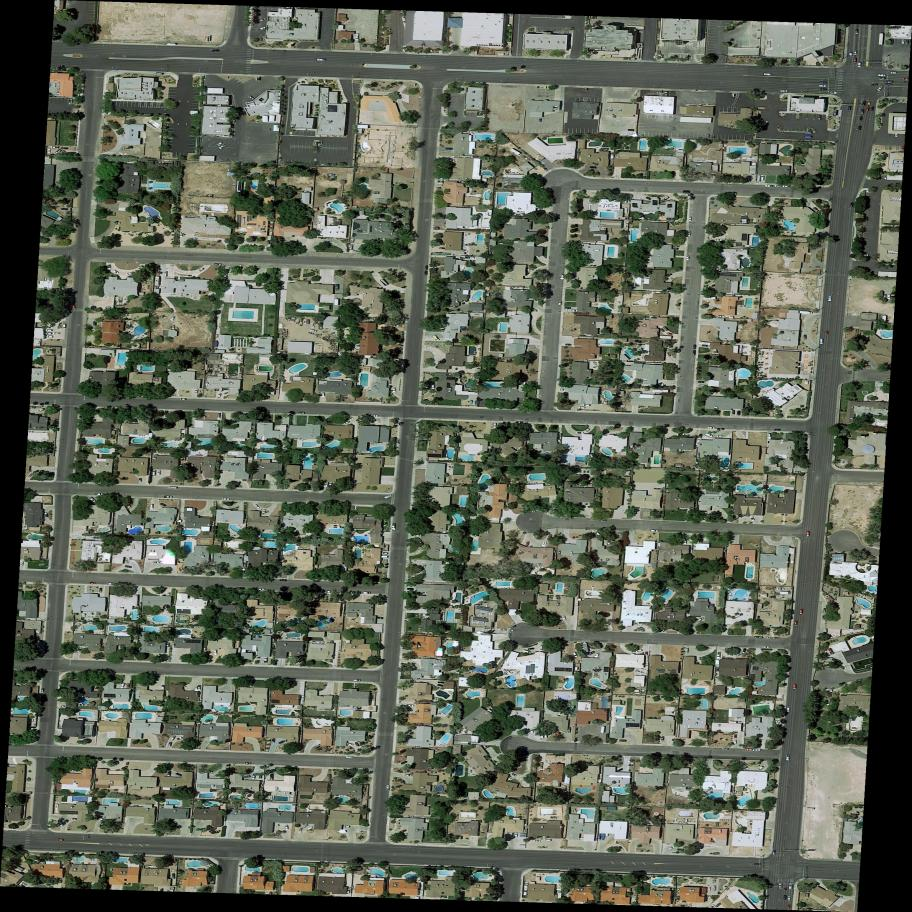large-vehicle: (508, 147, 523, 158), (878, 32, 884, 45), (557, 891, 563, 899), (522, 649, 531, 654), (857, 62, 862, 68)
ship: (523, 883, 530, 893)
small-vehicle: (431, 333, 442, 344), (87, 494, 97, 505), (340, 419, 353, 427), (875, 83, 885, 93), (830, 657, 843, 664), (158, 500, 168, 509), (704, 432, 715, 440), (741, 762, 750, 771), (827, 646, 835, 656), (18, 880, 28, 888), (256, 25, 267, 32), (169, 314, 177, 323), (218, 143, 227, 151), (756, 764, 765, 772), (98, 815, 107, 823), (252, 502, 261, 510), (521, 154, 530, 162), (196, 267, 206, 274), (668, 844, 676, 852), (714, 901, 722, 909), (697, 616, 705, 624), (584, 426, 592, 434), (53, 149, 62, 156), (616, 766, 625, 773), (828, 685, 835, 694), (561, 614, 568, 623), (569, 326, 578, 333), (126, 270, 136, 276), (112, 268, 120, 275), (216, 141, 224, 148), (59, 149, 67, 156), (627, 758, 635, 765), (697, 432, 704, 440), (572, 651, 579, 659), (846, 105, 853, 113), (250, 772, 257, 780), (546, 533, 553, 541), (315, 57, 326, 62), (635, 648, 644, 654), (587, 650, 596, 656), (553, 730, 562, 736), (307, 825, 316, 831), (175, 771, 184, 777), (383, 494, 392, 500), (604, 541, 614, 546), (869, 83, 879, 88), (334, 283, 341, 290), (27, 472, 34, 479), (832, 109, 839, 116), (510, 771, 517, 778), (148, 503, 155, 510), (659, 327, 666, 334), (162, 495, 174, 499), (735, 651, 743, 657), (817, 114, 823, 122), (399, 828, 407, 834), (400, 760, 408, 766), (509, 624, 517, 630), (261, 509, 269, 515), (663, 325, 669, 333), (309, 328, 318, 333), (211, 48, 220, 53), (712, 530, 721, 535), (783, 184, 792, 189), (124, 565, 133, 570), (528, 509, 537, 514), (706, 425, 717, 429), (217, 392, 223, 399), (194, 388, 200, 395), (163, 270, 169, 277), (248, 94, 254, 101), (151, 469, 157, 476), (708, 904, 715, 910), (785, 754, 791, 761), (825, 699, 831, 706), (695, 439, 701, 446), (750, 516, 756, 523), (852, 57, 858, 64), (854, 28, 860, 35), (849, 201, 855, 208), (857, 125, 863, 132), (827, 295, 833, 302), (861, 100, 867, 107), (865, 105, 871, 112), (870, 105, 876, 112), (667, 350, 673, 357), (297, 827, 303, 834), (327, 481, 333, 488), (541, 540, 547, 547), (492, 422, 498, 429), (45, 327, 53, 332), (838, 681, 846, 686), (716, 434, 724, 439), (645, 196, 653, 201), (94, 492, 104, 496), (87, 581, 97, 585), (445, 146, 453, 151), (662, 196, 670, 201), (406, 587, 416, 591), (676, 848, 685, 852), (156, 470, 162, 476), (50, 145, 59, 149), (788, 884, 794, 890), (753, 748, 762, 752), (682, 540, 688, 546), (744, 748, 753, 752), (761, 645, 770, 649), (594, 652, 600, 658), (793, 470, 802, 474), (900, 39, 906, 45), (904, 39, 910, 45), (889, 39, 895, 45), (33, 469, 39, 475), (824, 330, 830, 336), (818, 84, 827, 88), (18, 561, 24, 567), (221, 497, 230, 501), (43, 512, 49, 518), (256, 587, 265, 591), (166, 770, 172, 776), (765, 184, 774, 188), (714, 238, 723, 242), (559, 274, 565, 280), (534, 489, 540, 495), (557, 300, 563, 306), (138, 477, 143, 484), (295, 318, 300, 325), (259, 17, 266, 22), (47, 148, 52, 155), (792, 683, 797, 690), (717, 651, 722, 658), (684, 647, 689, 654), (849, 51, 854, 58), (819, 338, 824, 345), (860, 109, 865, 116), (385, 785, 390, 792), (509, 629, 516, 634), (761, 174, 766, 181), (525, 540, 530, 547), (392, 386, 397, 393), (167, 486, 178, 489), (753, 636, 764, 639), (179, 397, 187, 401), (61, 207, 69, 211), (213, 263, 221, 267), (61, 146, 69, 150), (627, 128, 635, 132), (774, 184, 782, 188), (619, 404, 627, 408), (533, 839, 541, 843), (436, 683, 444, 687), (527, 647, 535, 651), (151, 561, 159, 565), (56, 838, 64, 842), (325, 590, 333, 594), (350, 591, 358, 595), (499, 628, 507, 632), (376, 616, 384, 620), (763, 72, 771, 76), (527, 268, 535, 272), (61, 324, 67, 329), (310, 323, 315, 329), (216, 413, 221, 419), (349, 244, 354, 250), (778, 883, 783, 889), (782, 895, 787, 901), (787, 895, 792, 901), (786, 903, 791, 909), (822, 607, 827, 613), (821, 614, 826, 620), (743, 648, 748, 654), (884, 80, 894, 83), (876, 74, 886, 77), (618, 739, 628, 742), (883, 83, 893, 86), (803, 334, 808, 340), (887, 294, 892, 300), (859, 116, 864, 122), (867, 100, 872, 106), (171, 873, 176, 879), (346, 888, 351, 894), (159, 888, 165, 893), (268, 891, 273, 897), (284, 824, 289, 830), (278, 579, 288, 582), (258, 773, 263, 779), (269, 774, 274, 780), (688, 216, 693, 222), (538, 117, 543, 123), (691, 350, 696, 356), (362, 591, 372, 594), (190, 206, 197, 210), (764, 636, 771, 640), (861, 253, 868, 257), (830, 91, 837, 95), (438, 680, 445, 684), (540, 645, 544, 652), (673, 244, 680, 248), (702, 344, 709, 348), (649, 529, 658, 532), (598, 519, 607, 522), (901, 78, 910, 81), (773, 428, 782, 431), (819, 81, 828, 84), (780, 89, 789, 92), (405, 704, 414, 707), (106, 582, 115, 585), (582, 404, 591, 407), (71, 304, 76, 309), (92, 321, 97, 326), (171, 325, 176, 330), (321, 393, 326, 398), (771, 850, 776, 855), (786, 707, 791, 712), (733, 739, 738, 744), (853, 50, 858, 55), (882, 294, 887, 299), (883, 176, 888, 181), (894, 133, 899, 138), (687, 231, 692, 236), (736, 410, 741, 415), (53, 332, 61, 335), (44, 332, 52, 335), (45, 335, 53, 338), (299, 321, 303, 327), (297, 412, 305, 415), (568, 727, 572, 733), (753, 863, 761, 866), (799, 609, 803, 615), (734, 733, 738, 739), (721, 747, 729, 750), (890, 71, 898, 74), (355, 35, 359, 41), (697, 380, 705, 383), (514, 832, 518, 838), (544, 839, 552, 842), (93, 536, 99, 540), (236, 587, 244, 590), (243, 762, 251, 765), (686, 255, 690, 261), (667, 332, 673, 336), (717, 315, 725, 318), (732, 409, 736, 415), (424, 270, 428, 276), (370, 414, 378, 417), (557, 549, 561, 555), (578, 406, 586, 409), (576, 432, 584, 435), (473, 399, 477, 405), (431, 383, 435, 389), (190, 203, 197, 206), (773, 636, 780, 639), (777, 587, 784, 590), (879, 77, 886, 80), (666, 273, 673, 276), (820, 88, 827, 91), (343, 825, 350, 828), (405, 774, 412, 777), (439, 247, 446, 250), (381, 552, 388, 555), (559, 388, 566, 391), (565, 343, 572, 346), (300, 317, 304, 322), (287, 317, 291, 322), (303, 319, 307, 324), (307, 319, 311, 324), (597, 835, 601, 840), (794, 621, 798, 626), (806, 531, 810, 536), (901, 146, 905, 151), (425, 265, 429, 270), (693, 344, 697, 349), (391, 525, 395, 530), (465, 256, 471, 259), (563, 307, 572, 309), (783, 887, 787, 891), (570, 310, 578, 312), (661, 736, 664, 741), (471, 257, 477, 259)
